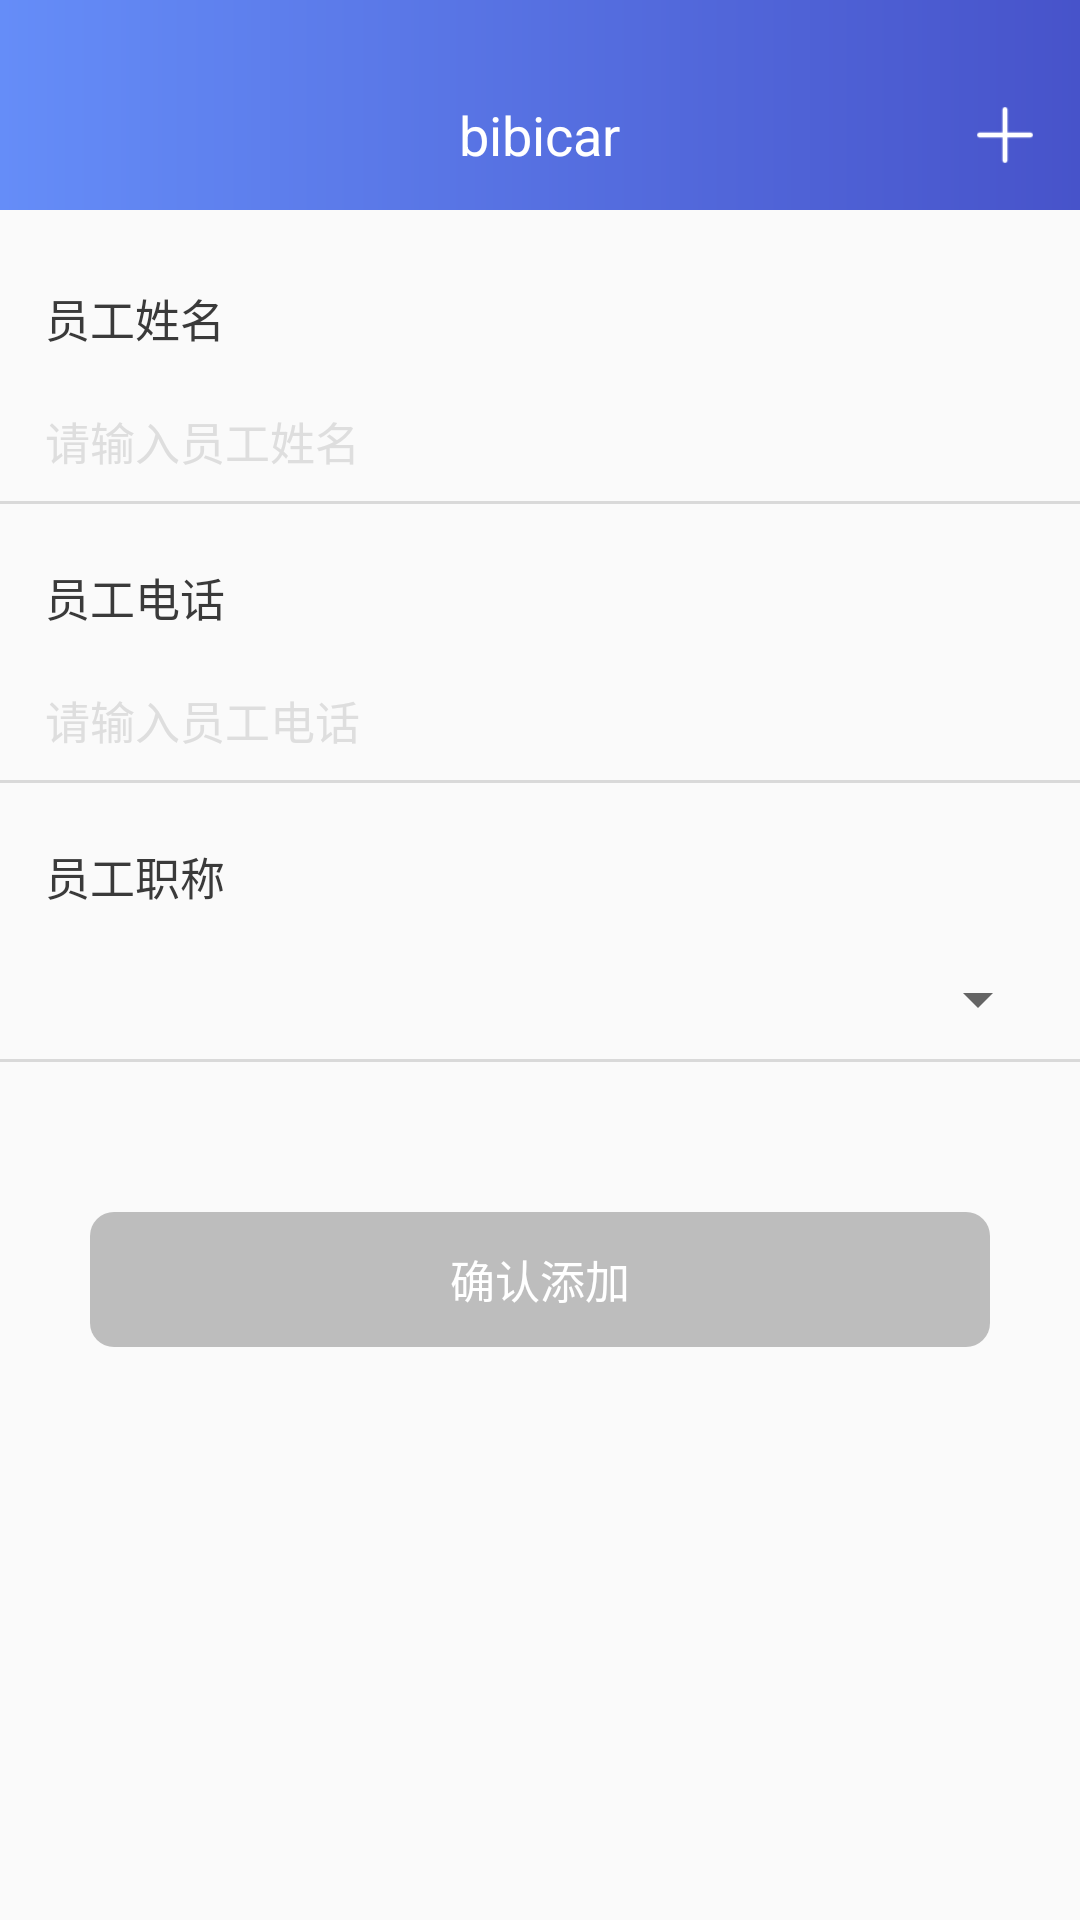

Screen size 1080×1920. Icon name, then its box in pixels as box=[x1, y1, x2, y2]:
title bar add: box=[977, 107, 1033, 163]
